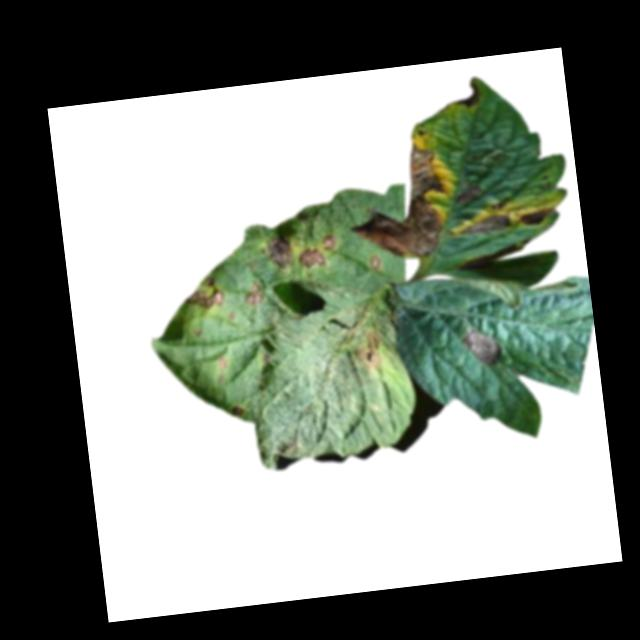Early_blight: (341, 136, 455, 264), (458, 321, 506, 366), (184, 271, 226, 313), (350, 328, 386, 374), (456, 211, 514, 235), (267, 234, 295, 270), (454, 180, 485, 206), (298, 246, 330, 271), (518, 206, 552, 228), (453, 80, 481, 106), (243, 279, 265, 308), (323, 232, 341, 251), (368, 253, 382, 269), (232, 402, 245, 419)
